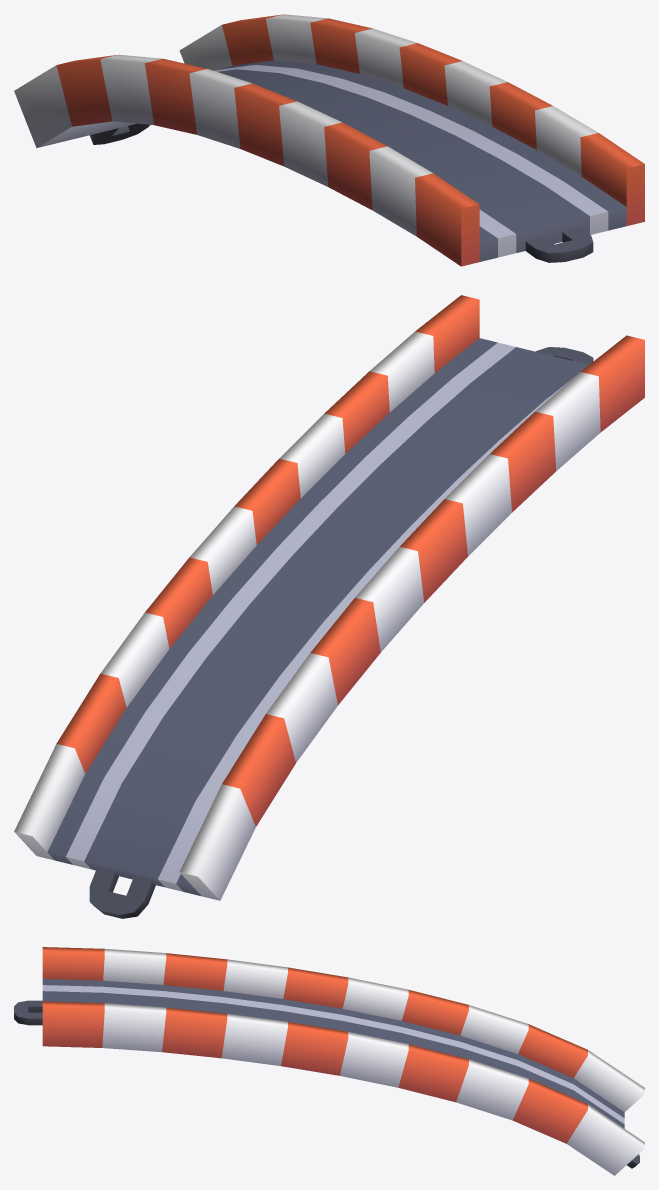
Rendered from kenney-toy-car-track-road-narrow-straight-hill-end.glb.
3 renders of one model, top to bottom at view 1: azimuth 30°, elevation 25°; view 2: azimuth 150°, elevation 25°; view 3: azimuth 270°, elevation 25°, orthographic. The views are drawn at different scales.
Visible parts, largest first — view 1: track-road-narrow-straight-hill-end; view 2: track-road-narrow-straight-hill-end; view 3: track-road-narrow-straight-hill-end.
Part boxes in pixels (left/top/right/bottom): track-road-narrow-straight-hill-end: left=14, top=14, right=644, bottom=266; track-road-narrow-straight-hill-end: left=14, top=295, right=644, bottom=918; track-road-narrow-straight-hill-end: left=14, top=947, right=644, bottom=1175.
Size of the model in its own units: 0.9997 by 1.44 by 4.41.
1 material, 1 textured.
